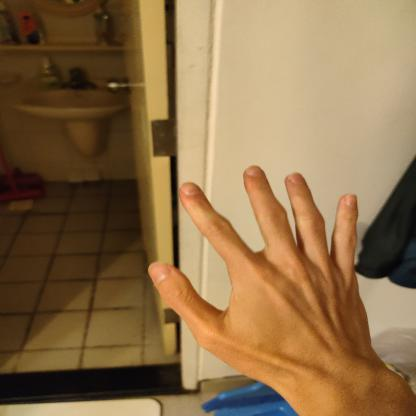bare_hand: (145, 152, 391, 396)
